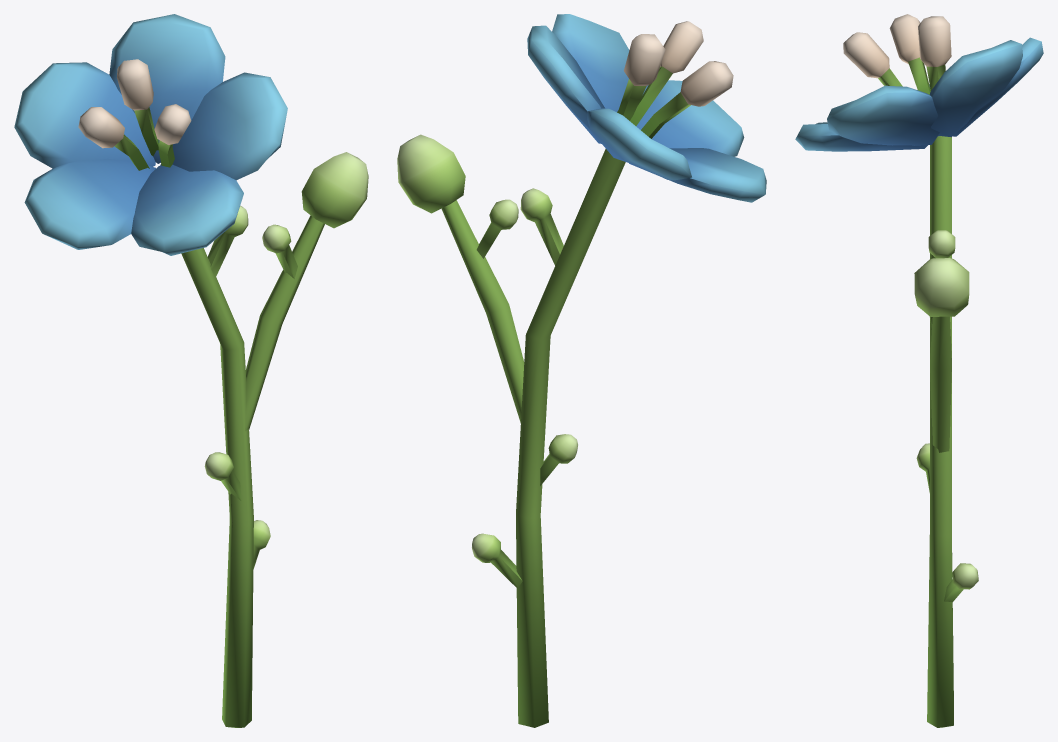
The model's file is flax_flower_A.glb.
3 renders of one model, left to right at view 1: azimuth 30°, elevation 25°; view 2: azimuth 150°, elevation 25°; view 3: azimuth 270°, elevation 25°, orthographic. The views are drawn at different scales.
Parts seen in each view (by area): view 1: flax_flower_A; view 2: flax_flower_A; view 3: flax_flower_A.
Part boxes in pixels (box(x1,y1,x2,y2)): flax_flower_A: box(14, 14, 368, 727); flax_flower_A: box(397, 14, 766, 727); flax_flower_A: box(795, 14, 1043, 727).
Size of the model in its own units: 0.4995 by 0.9859 by 0.3345.
Materials: 1 (1 with a texture image).
